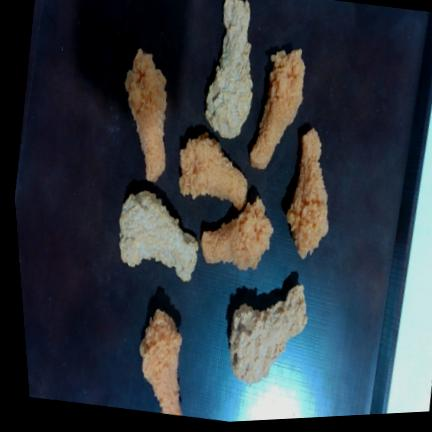chicken: (229, 285, 308, 384), (120, 191, 198, 281), (250, 49, 305, 169), (206, 0, 253, 139), (126, 49, 167, 182), (201, 196, 274, 270), (287, 128, 328, 258), (179, 133, 247, 209), (140, 309, 182, 415)
